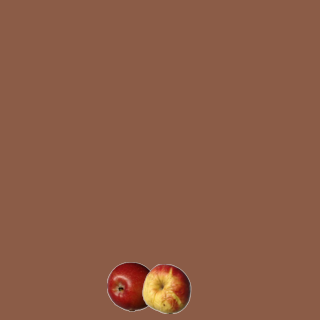Apple Braeburn: (106, 261, 156, 311)
Apple Red Yellow 1: (141, 263, 191, 313)
